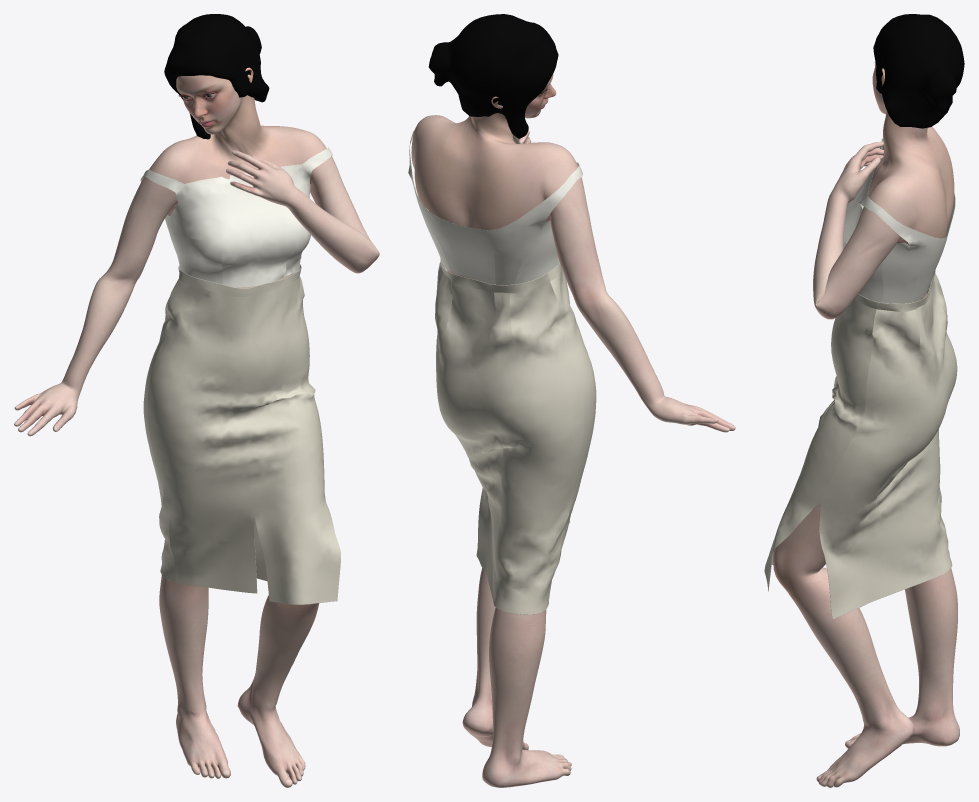
The model's file is Dynamic_2.obj.
3 views of the same model, side by side, from view 1: azimuth 30°, elevation 25°; view 2: azimuth 150°, elevation 25°; view 3: azimuth 270°, elevation 25° (orthographic). The views are drawn at different scales.
Size of the model in its own units: 813 by 1767 by 427.
